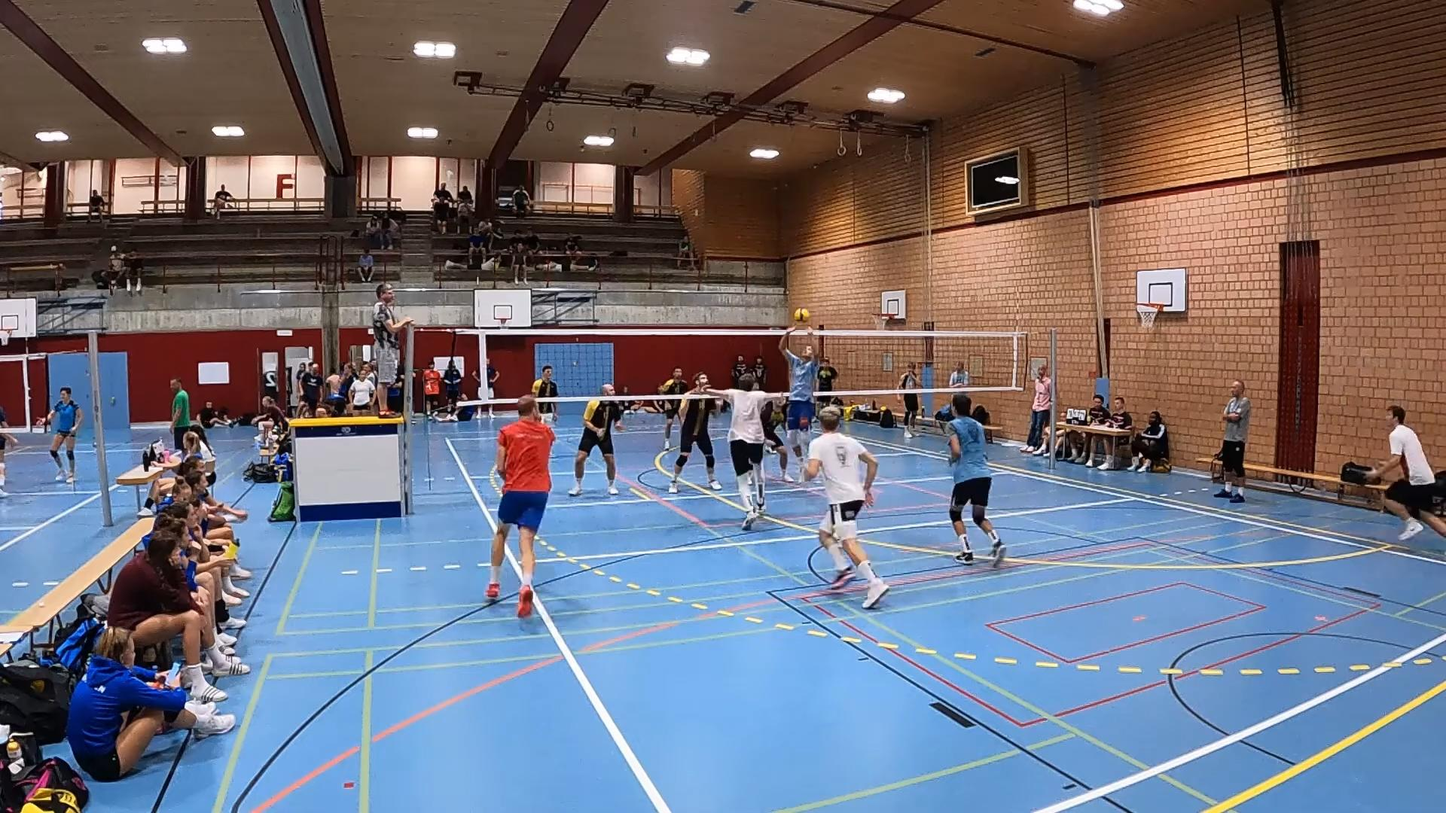alzata: (778, 326, 822, 473)
